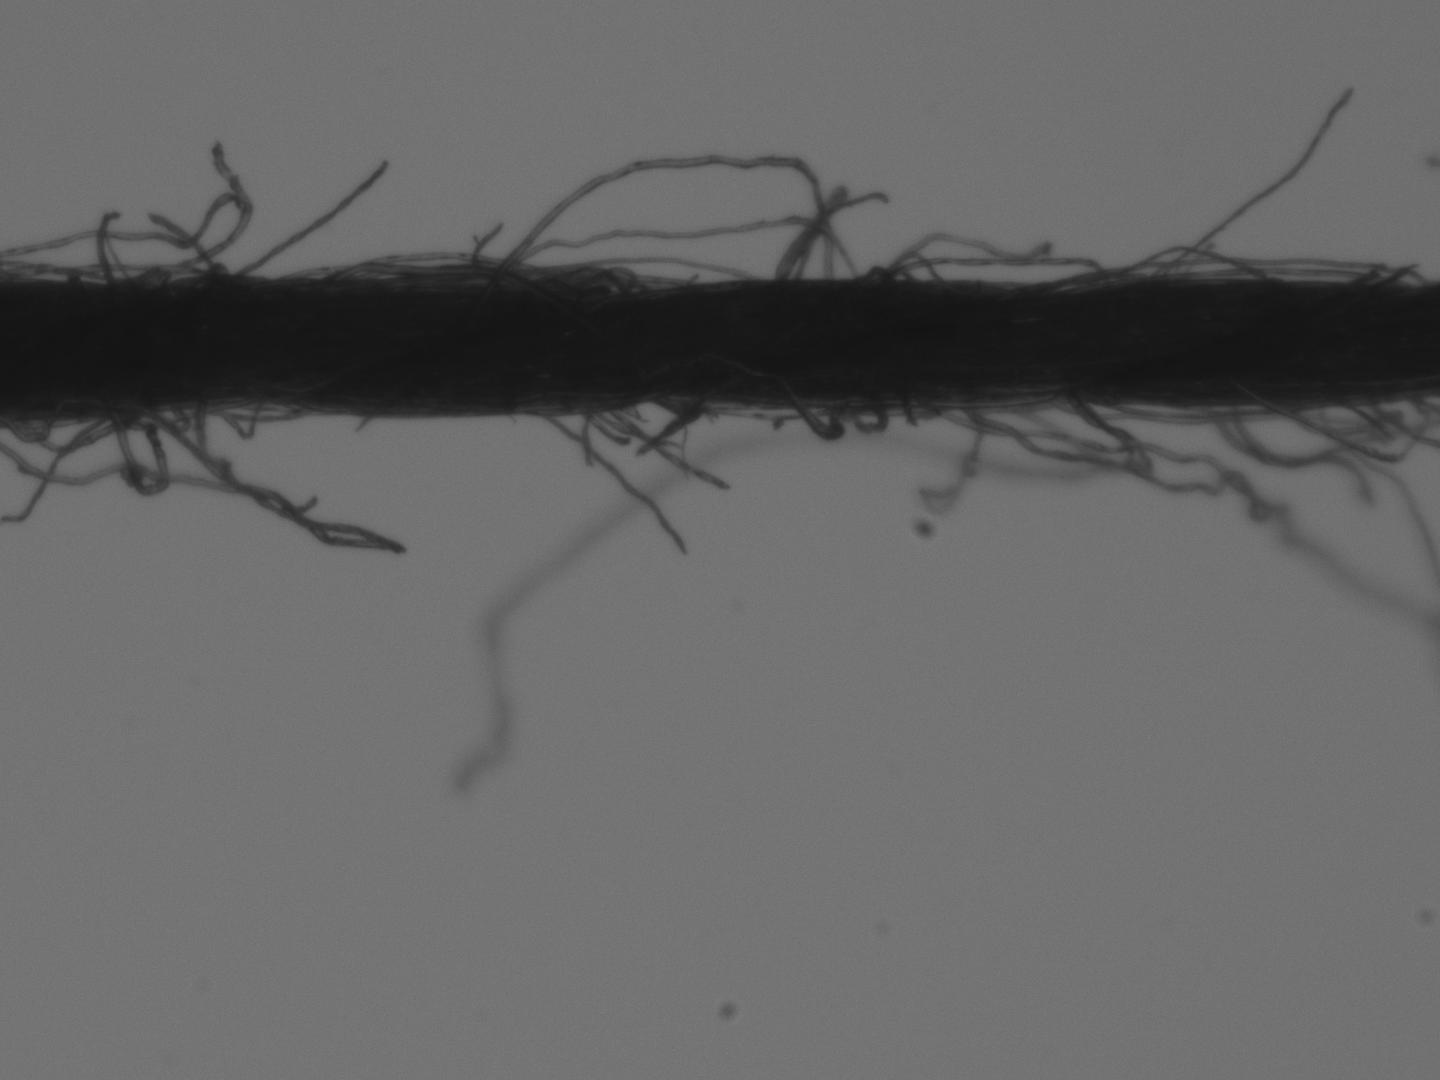loop_fiber: (490, 154, 831, 287), (517, 219, 849, 286), (871, 250, 1108, 290), (1117, 247, 1274, 290), (107, 404, 175, 499), (535, 267, 688, 290), (786, 402, 845, 438), (837, 397, 884, 439), (857, 264, 917, 282)
protruding_fiber: (1147, 84, 1358, 285), (526, 412, 691, 552), (236, 158, 390, 275), (611, 407, 729, 490)
